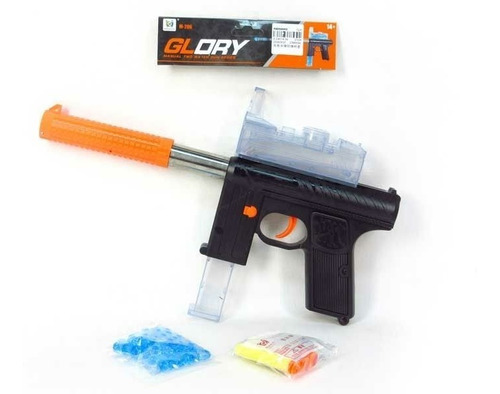Arma Falsa: (31, 85, 417, 329)
